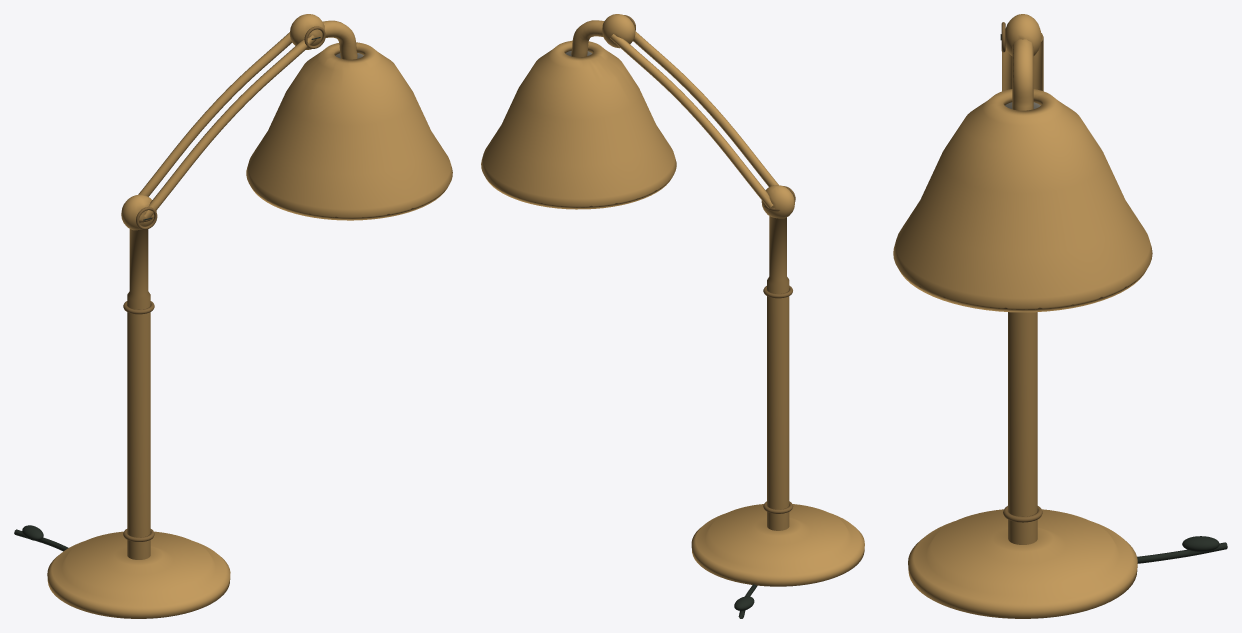
File: lamp.glb
The picture shows the model from 3 angles, left to right: view 1: azimuth 30°, elevation 25°; view 2: azimuth 150°, elevation 25°; view 3: azimuth 270°, elevation 25°; orthographic projection. The views are drawn at different scales.
Visible parts, largest first — view 1: Atelier_Lamp; view 2: Atelier_Lamp; view 3: Atelier_Lamp.
Boxes of the visible parts, x1,y1,x2,y2 form: Atelier_Lamp: (14,14,452,618); Atelier_Lamp: (481,14,864,618); Atelier_Lamp: (893,14,1227,618).
Bounding box in the file's own units: 1.08 × 1.44 × 0.6578.
